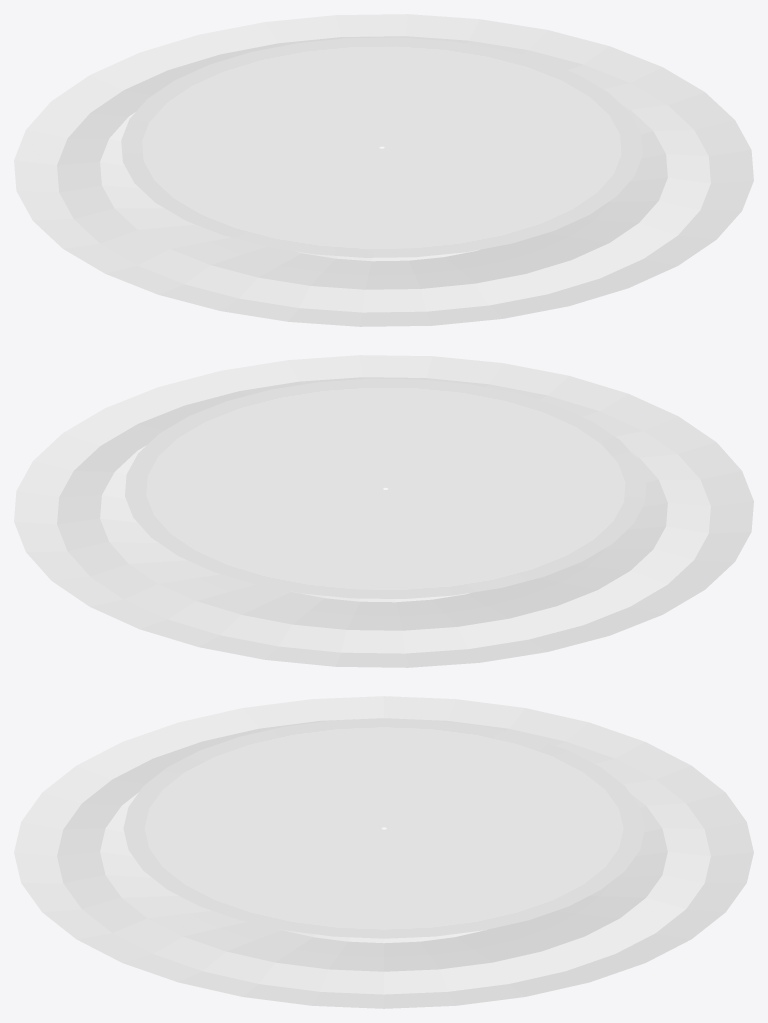
File: OverHeadStrike_AreaAttack_GLTF.gltf
The picture shows the model from 3 angles, top to bottom: view 1: azimuth 30°, elevation 25°; view 2: azimuth 150°, elevation 25°; view 3: azimuth 270°, elevation 25°; orthographic projection.
Parts seen in each view (by area): view 1: Expansion_S, Cyl_Explosion; view 2: Expansion_S, Cyl_Explosion; view 3: Expansion_S, Cyl_Explosion.
Part boxes in pixels (x1,y1,x2,y2): Expansion_S: (14, 14, 753, 326); Cyl_Explosion: (121, 37, 642, 257); Expansion_S: (14, 355, 753, 667); Cyl_Explosion: (125, 378, 646, 598); Expansion_S: (14, 696, 753, 1008); Cyl_Explosion: (123, 718, 644, 938).
Size of what is drawn, in the model's own units: 5.28 by 0.9138 by 5.28.
Materials: 4 (4 with a texture image).
